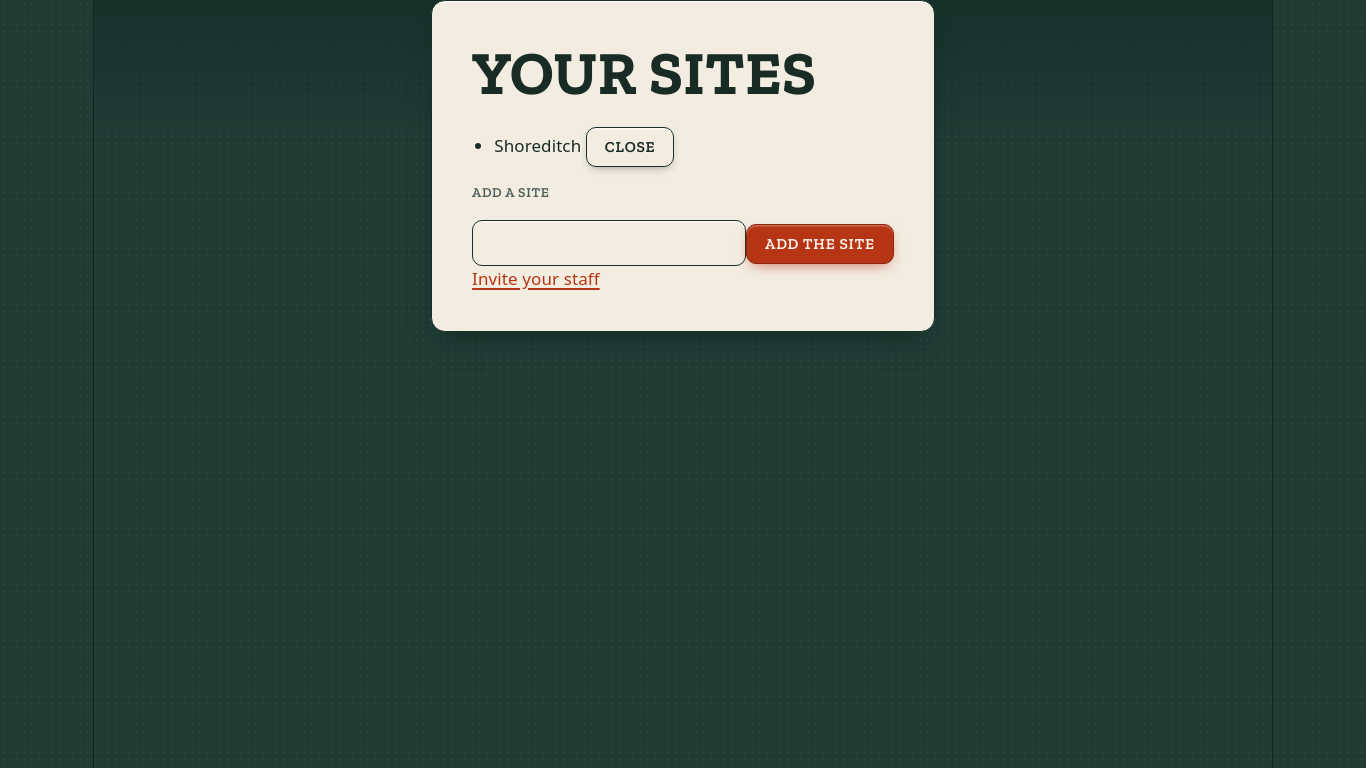
it: the sites page › shows a refusal verbatim
The width and height of the screenshot is (1366, 768).
expect the list item "Shoreditch" is shown: met, box [494, 134, 581, 157]
Click the button "Close": (630, 147) [586, 127, 674, 167]
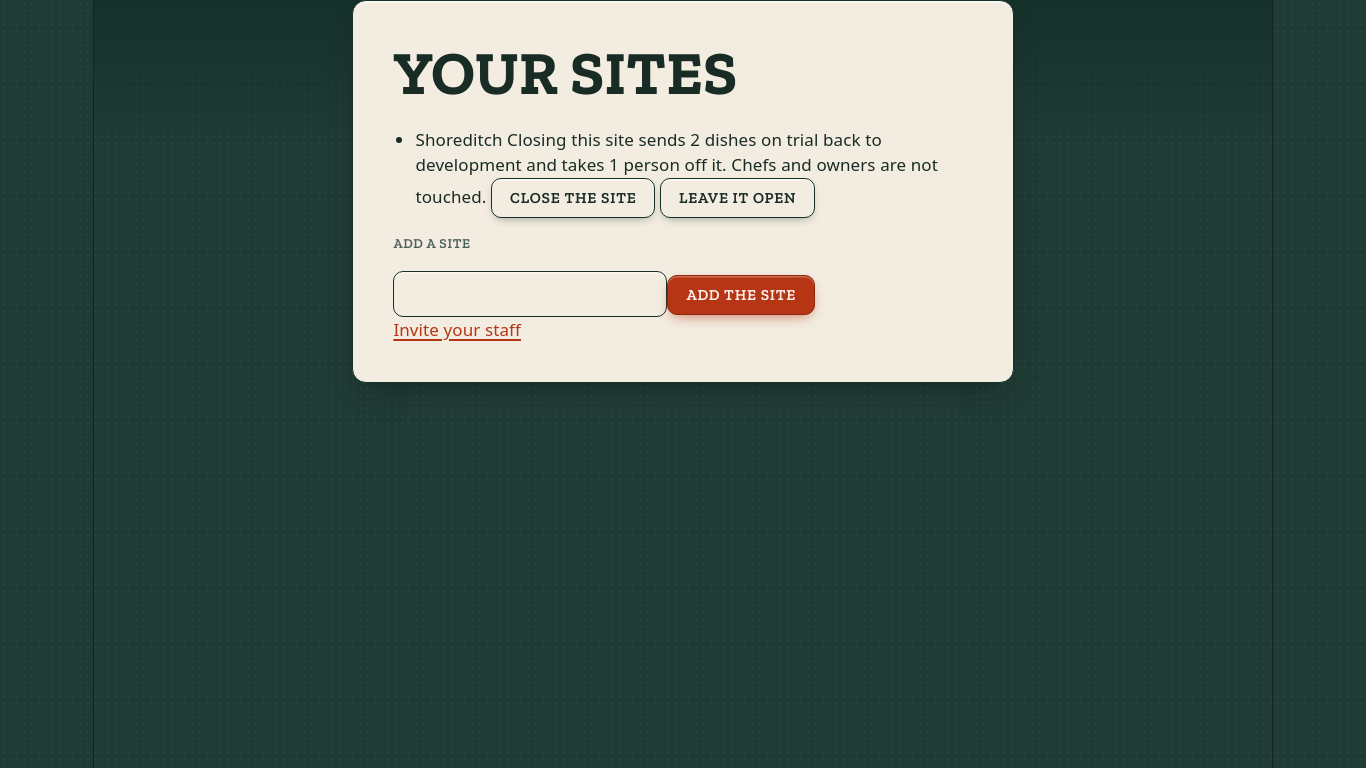
Click the button "Close the site": (573, 198) [491, 178, 656, 218]
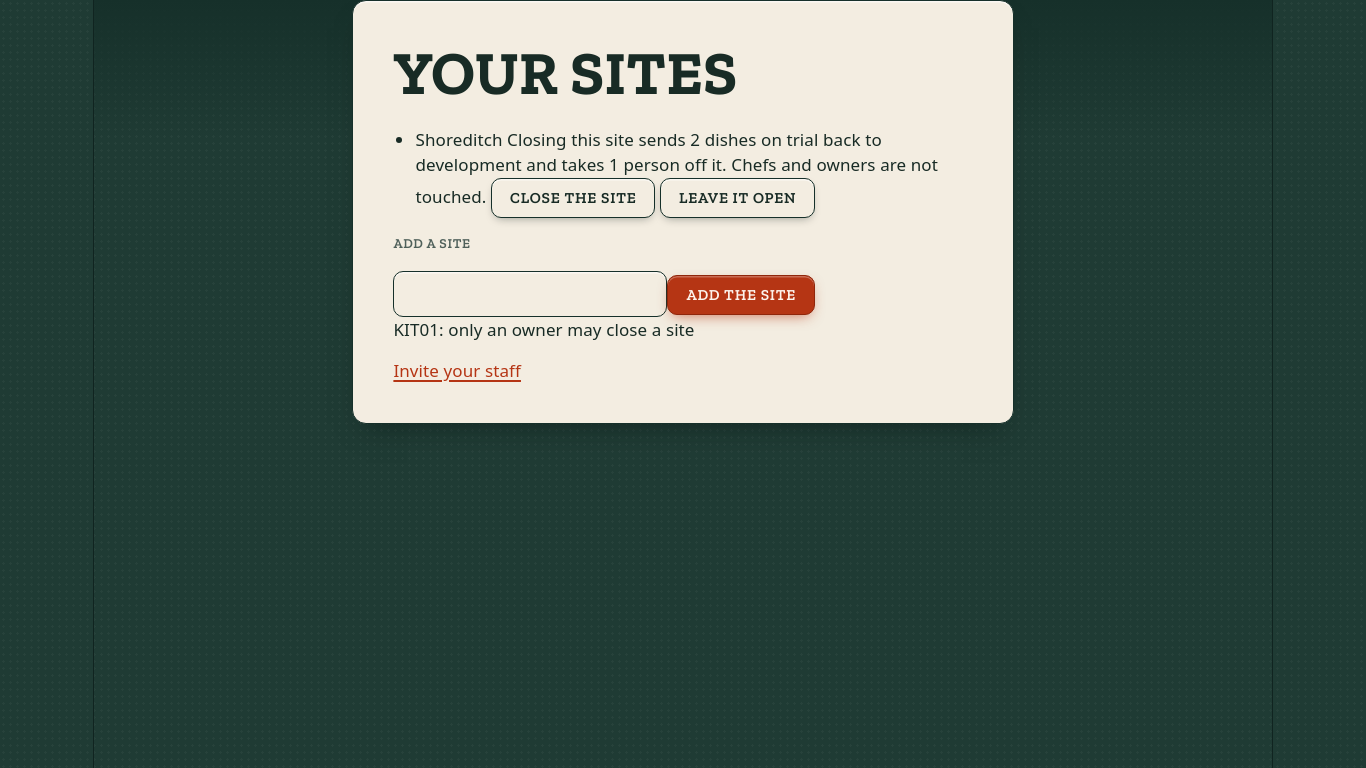
expect the message reads "KIT01: only an owner may close a site": met, box [393, 318, 695, 341]
